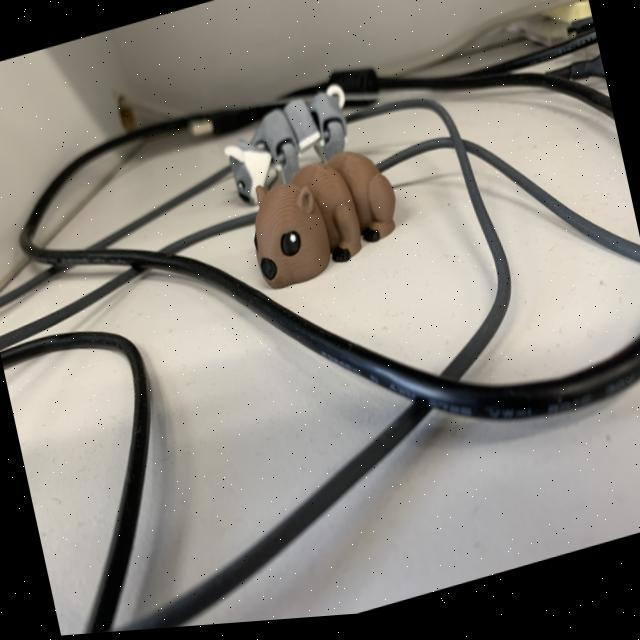koala: (212, 73, 368, 216)
wombat: (238, 137, 404, 294)
